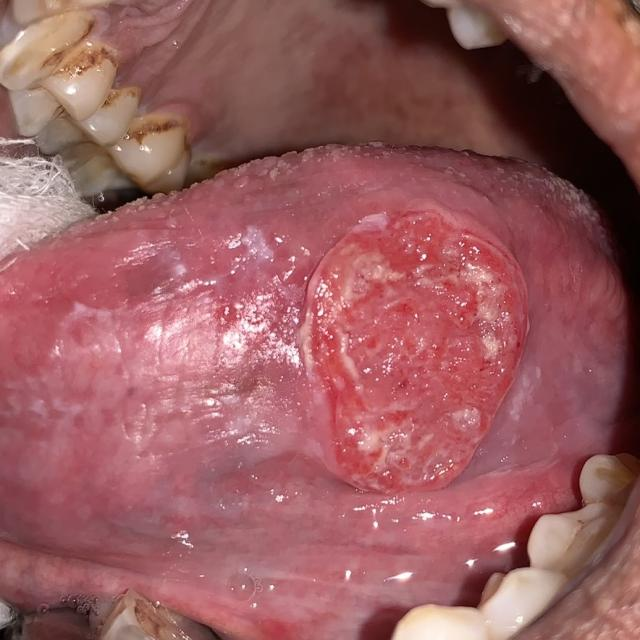cancer-detection: (285, 189, 548, 505)
processing_area: (5, 2, 624, 639)
